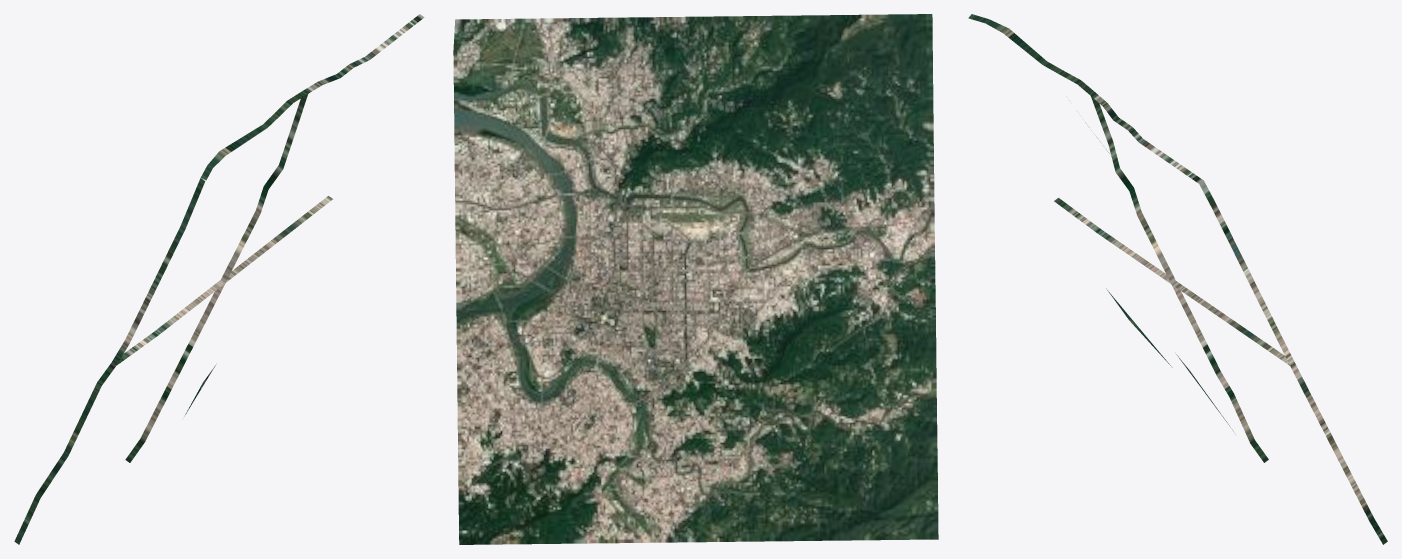
3 views of the same model, side by side, from view 1: azimuth 30°, elevation 25°; view 2: azimuth 150°, elevation 25°; view 3: azimuth 270°, elevation 25° (orthographic). The views are drawn at different scales.
Bounding box in the file's own units: 19774 × 18131 × 16551.
Materials: 1 (1 with a texture image).
